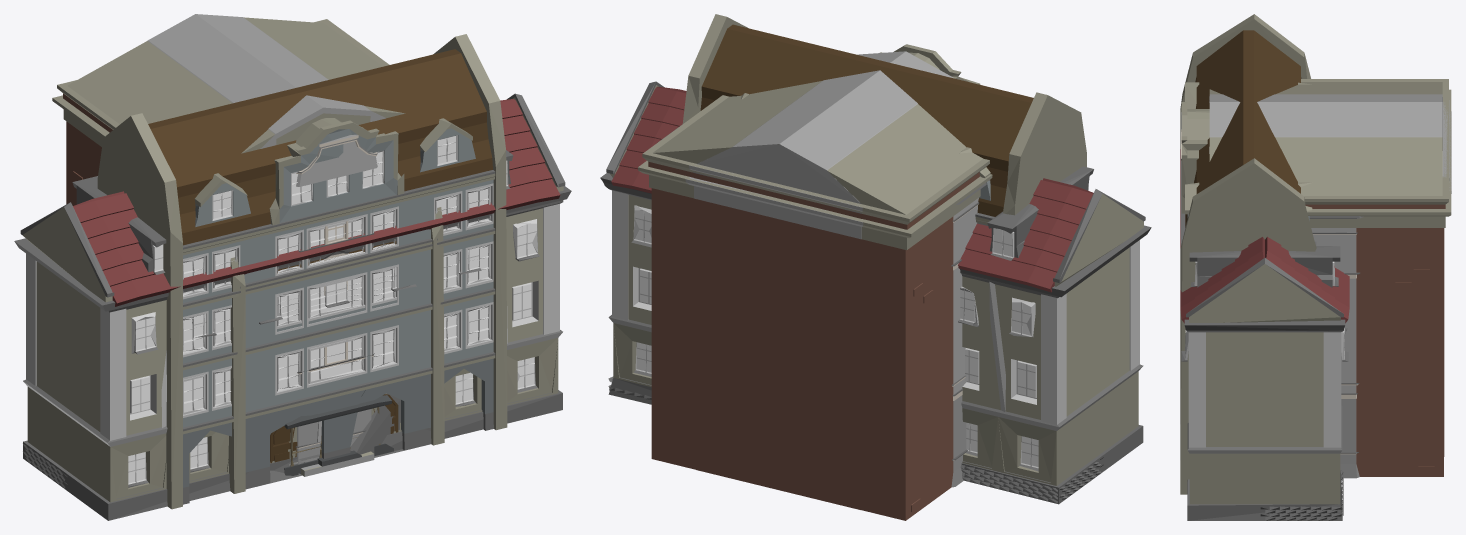
Rendered from buildings.glb.
The picture shows the model from 3 angles, left to right: view 1: azimuth 30°, elevation 25°; view 2: azimuth 150°, elevation 25°; view 3: azimuth 270°, elevation 25°; orthographic projection. The views are drawn at different scales.
Visible parts, largest first — view 1: Building2_Large, Building1_Large, Building3_Big, Building3_Small, Building2_Small, Building4, House1, Building1_Small; view 2: Building1_Large, Building3_Small, Building3_Big, Building2_Large, Building4; view 3: Building1_Large, Building3_Big, Building2_Large, Building3_Small, Building4.
Boxes of the visible parts, x1,y1,x2,y2 form: Building2_Large: (97, 34, 507, 509); Building1_Large: (14, 93, 571, 520); Building3_Big: (52, 17, 405, 476); Building3_Small: (147, 14, 385, 476); Building2_Small: (228, 207, 444, 493); Building4: (295, 134, 377, 474); House1: (284, 395, 393, 475); Building1_Small: (244, 225, 444, 470); Building1_Large: (600, 81, 1151, 504); Building3_Small: (685, 51, 953, 509); Building3_Big: (638, 54, 992, 520); Building2_Large: (682, 14, 1086, 225); Building4: (951, 180, 990, 487); Building1_Large: (1180, 149, 1349, 520); Building3_Big: (1209, 79, 1451, 476); Building2_Large: (1180, 14, 1316, 494); Building3_Small: (1209, 94, 1451, 456); Building4: (1181, 112, 1363, 478).
Size of the model in its own units: 23.97 by 17.75 by 13.19.
